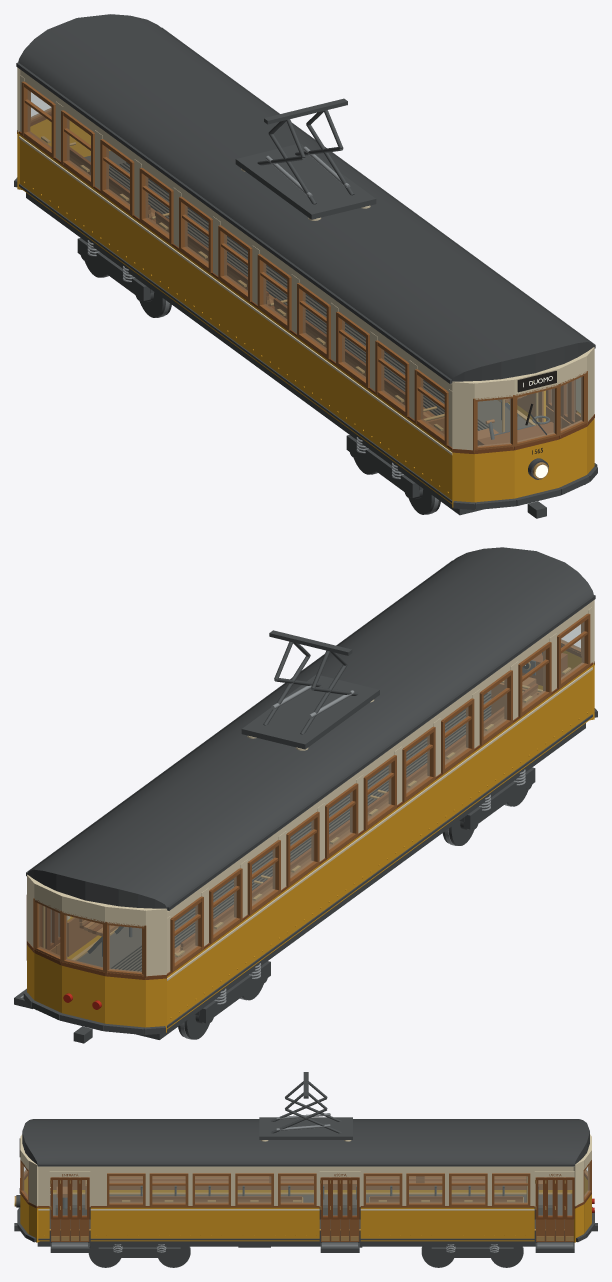
File: tram.glb
The picture shows the model from 3 angles, top to bottom: view 1: azimuth 30°, elevation 25°; view 2: azimuth 150°, elevation 25°; view 3: azimuth 270°, elevation 25°; orthographic projection. The views are drawn at different scales.
Parts seen in each view (by area): view 1: Outer roof, Enamel side panel, Pantograph mounting tray, Continuous ivory header, Passenger floor, Gutter, Underframe, Roof end fascia, Curved nose enamel.001, Curved nose enamel.002, Windshield glass.001, Side trim.001 (+23 smaller); view 2: Outer roof, Enamel side panel, Pantograph mounting tray, Passenger floor, Continuous ivory header, Gutter, Underframe, Roof end fascia.001, Curved nose enamel.007, Curved nose enamel.006, Windshield glass.004, Side trim.001 (+23 smaller); view 3: Outer roof, Enamel side panel.002, Enamel side panel.003, Continuous ivory header.001, Underframe, Passenger floor, Oak side lining, Pantograph mounting tray, Gutter.001, Enamel side panel, Floor edge, Bogie side frame.003 (+39 smaller).
Part boxes in pixels (x1,y1,x2,y2): Outer roof: (18,14,592,381); Enamel side panel: (20,134,452,503); Pantograph mounting tray: (235,143,376,219); Continuous ivory header: (20,70,452,391); Passenger floor: (84,151,531,432); Gutter: (16,62,451,383); Underframe: (26,193,585,515); Roof end fascia: (451,342,593,382); Curved nose enamel.001: (474,450,514,502); Curved nose enamel.002: (514,439,558,498); Windshield glass.001: (517,388,554,441); Side trim.001: (19,184,452,502); Outer roof: (29,547,593,907); Enamel side panel: (167,666,591,1029); Pantograph mounting tray: (241,674,379,749); Passenger floor: (76,690,491,971); Continuous ivory header: (167,602,591,918); Gutter: (167,595,595,910); Underframe: (36,723,585,1039); Roof end fascia.001: (27,869,167,909); Curved nose enamel.007: (62,966,105,1023); Curved nose enamel.006: (105,976,145,1027); Windshield glass.004: (66,916,102,968); Side trim.001: (167,714,592,1028); Outer roof: (22,1119,589,1163); Enamel side panel.002: (90,1207,319,1241); Enamel side panel.003: (360,1207,534,1241); Continuous ivory header.001: (38,1167,573,1173); Underframe: (37,1235,574,1246); Passenger floor: (49,1193,572,1234); Oak side lining: (50,1176,572,1189); Pantograph mounting tray: (259,1117,352,1139); Gutter.001: (37,1164,574,1166); Enamel side panel: (50,1190,572,1193); Floor edge: (53,1192,570,1194); Bogie side frame.003: (431,1247,513,1257).
Size of the model in its own units: 2.69 by 4.45 by 13.93.
